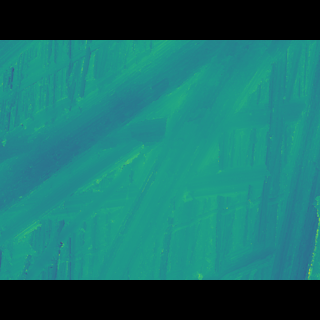Loch: (0, 69, 292, 223), (16, 142, 161, 250)
